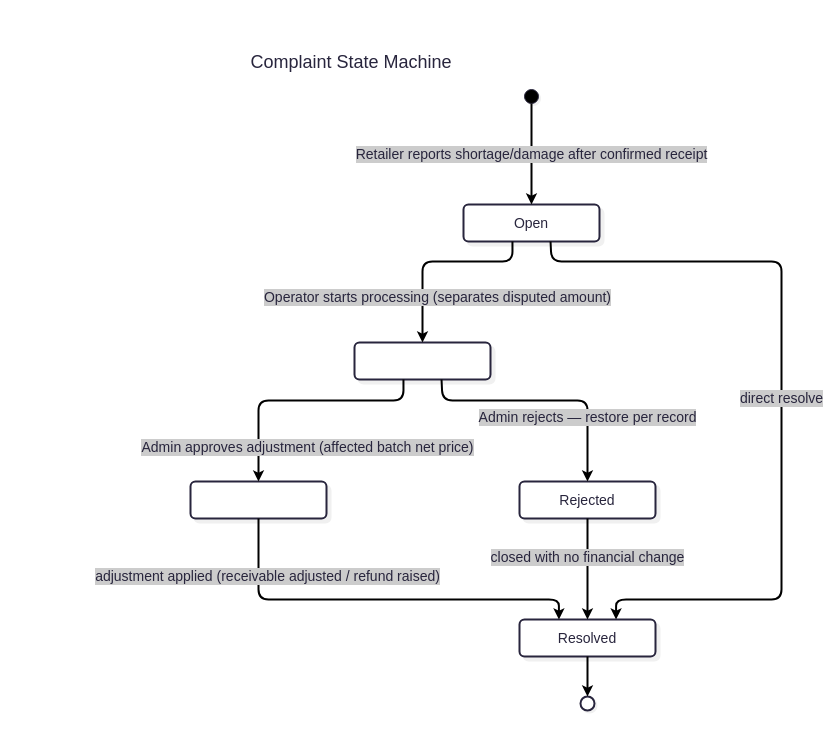
This 840x730 diagram has some shape labels left out. The shapes that lost their labels are listed below. From the top down, each one's centre as x and y in pixels, then its label:
At pixel 424 362: "UnderReview".
At pixel 260 501: "Approved".
